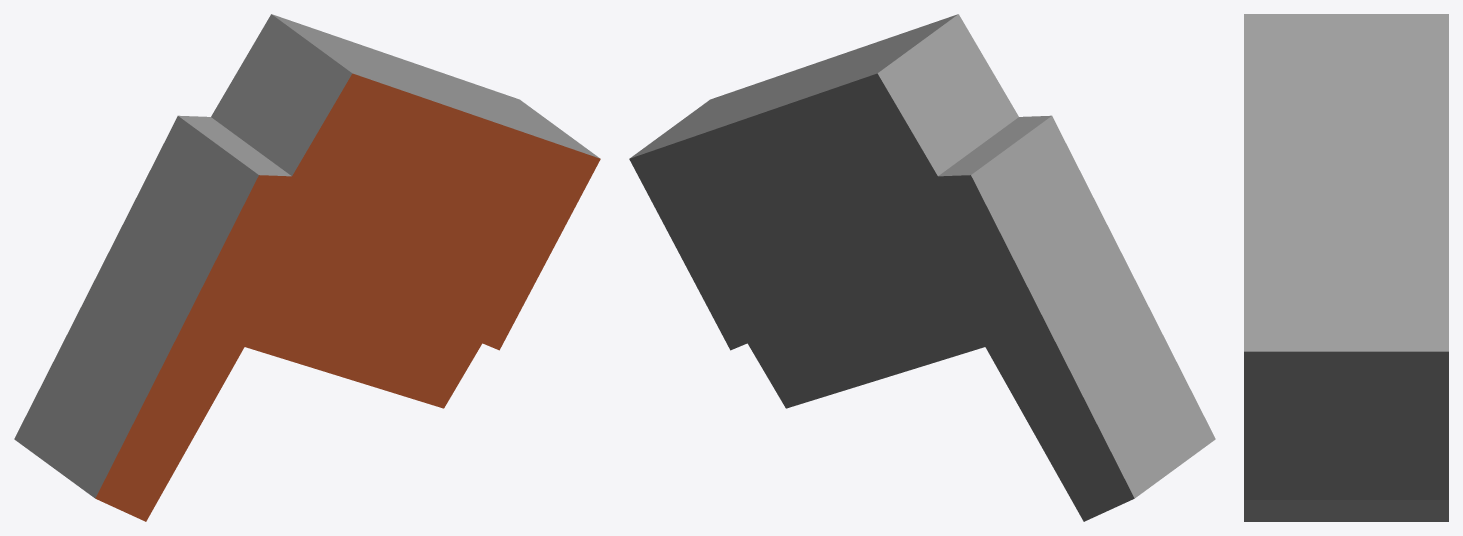
Rendered from construction_3308_assumed_A_Casa_h6m.obj.
3 renders of one model, left to right at view 1: azimuth 30°, elevation 25°; view 2: azimuth 150°, elevation 25°; view 3: azimuth 270°, elevation 25°, orthographic. The views are drawn at different scales.
Parts seen in each view (by area): view 1: construction_3308_assumed_A_Casa; view 2: construction_3308_assumed_A_Casa; view 3: construction_3308_assumed_A_Casa.
Part boxes in pixels (x1,y1,x2,y2): construction_3308_assumed_A_Casa: [14, 14, 600, 521]; construction_3308_assumed_A_Casa: [629, 14, 1215, 521]; construction_3308_assumed_A_Casa: [1244, 14, 1448, 521].
Bounding box in the file's own units: 21.58 × 16.25 × 6.
